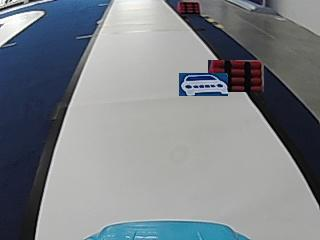bomb: (177, 0, 201, 13)
